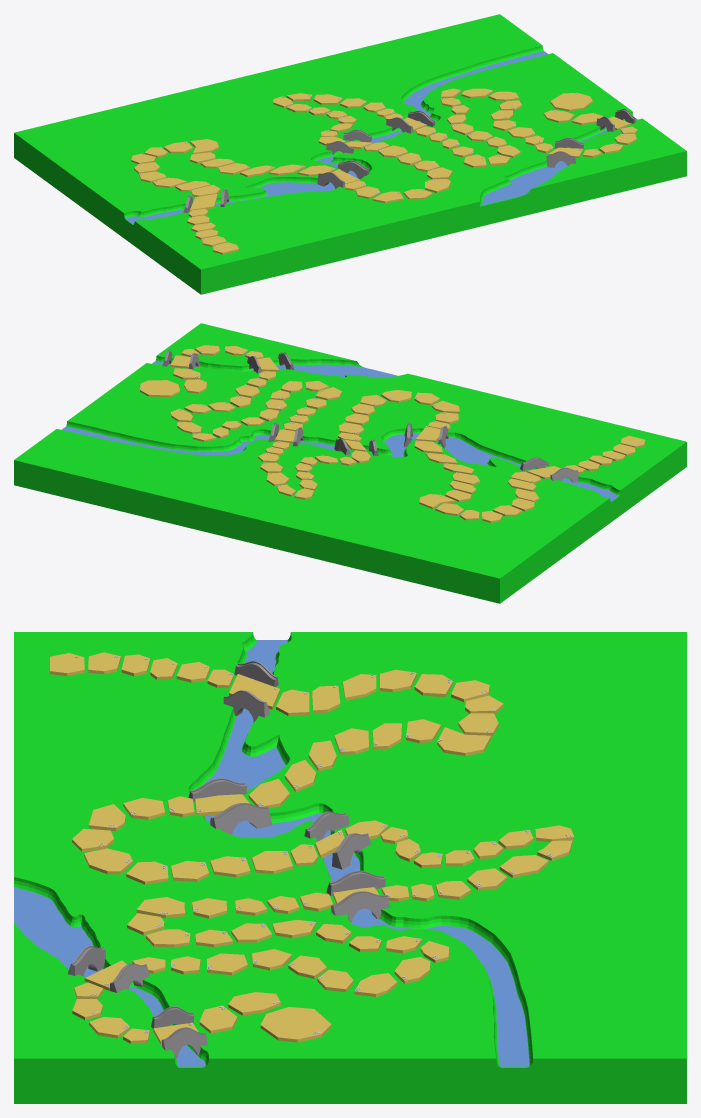
Rendered from MapaFinalV1.glb.
3 views of the same model, one above another, from view 1: azimuth 30°, elevation 25°; view 2: azimuth 150°, elevation 25°; view 3: azimuth 270°, elevation 25° (orthographic). The views are drawn at different scales.
Parts seen in each view (by area): view 1: TableroBase, Casillas, Agua, BordesRios; view 2: TableroBase, Casillas, Agua, BordesRios; view 3: TableroBase, Casillas, Agua, BordesRios, Puente2P1, Puente4P2, Puente4P1, Puente6P2, Puente1P1, Puente2P2, Puente3P2, Puente3P1 (+2 smaller).
Part boxes in pixels (x1,y1,x2,y2): TableroBase: (14,14,686,294); Casillas: (131,88,637,254); Agua: (125,50,637,224); BordesRios: (124,45,633,224); TableroBase: (14,323,686,603); Casillas: (140,345,645,522); Agua: (61,361,619,501); BordesRios: (66,356,620,501); TableroBase: (14,632,686,1103); Casillas: (50,652,574,1044); Agua: (14,640,529,1066); BordesRios: (14,632,533,1067); Puente2P1: (210,803,272,834); Puente4P2: (331,891,390,922); Puente4P1: (326,870,385,895); Puente6P2: (161,1027,207,1058); Puente1P1: (223,690,270,722); Puente2P2: (188,778,246,802); Puente3P2: (332,833,370,869); Puente3P1: (304,811,349,841).
Size of the model in its own units: 72 by 5.11 by 48.
